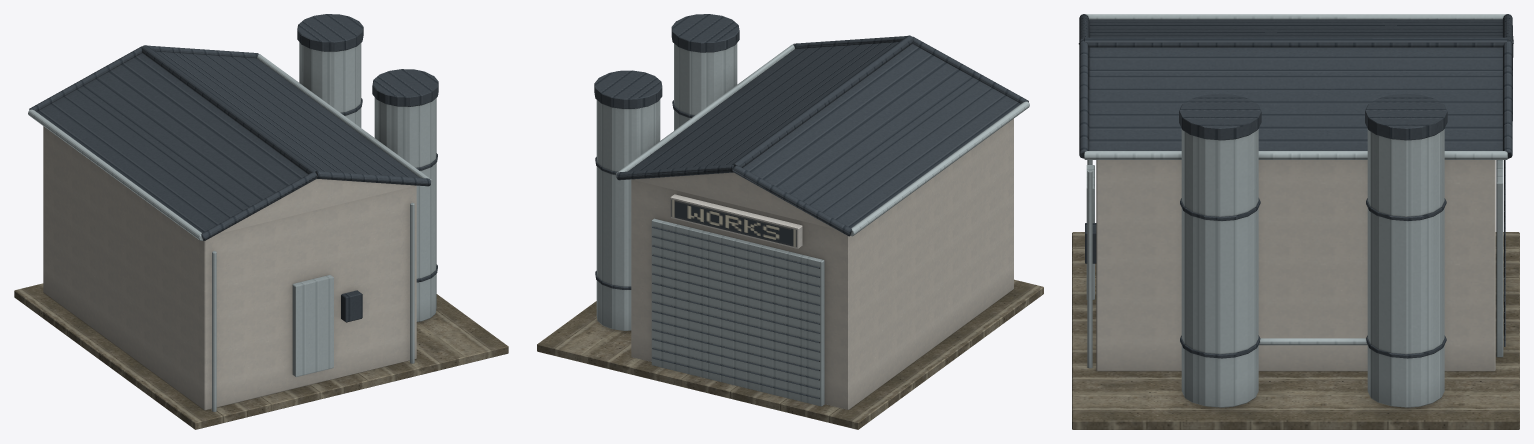
The model's file is factory_004.obj.
The picture shows the model from 3 angles, left to right: view 1: azimuth 30°, elevation 25°; view 2: azimuth 150°, elevation 25°; view 3: azimuth 270°, elevation 25°; orthographic projection. The views are drawn at different scales.
Parts seen in each view (by area): view 1: factory_004; view 2: factory_004; view 3: factory_004.
Boxes of the visible parts, x1,y1,x2,y2 form: factory_004: (14,14,508,429); factory_004: (537,14,1043,429); factory_004: (1072,14,1519,429).
Bounding box in the file's own units: 6.5 × 4.7 × 6.5.
1 material, 1 textured.
